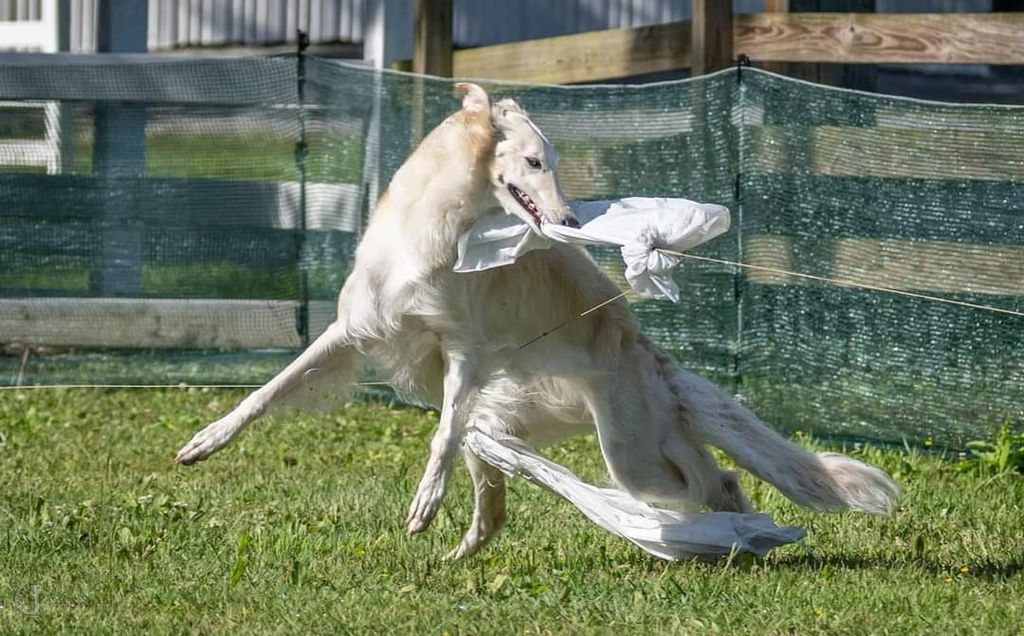borzoi: (156, 84, 903, 564)
